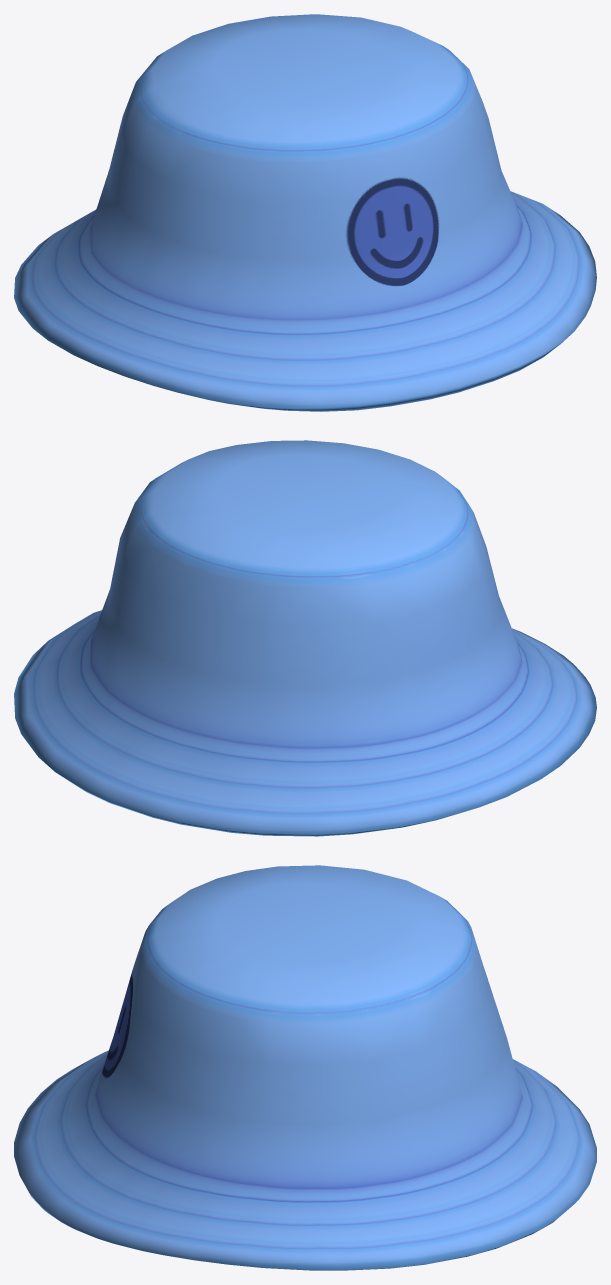
The model's file is Bucket.fbx.
3 renders of one model, top to bottom at view 1: azimuth 30°, elevation 25°; view 2: azimuth 150°, elevation 25°; view 3: azimuth 270°, elevation 25°, orthographic. The views are drawn at different scales.
Parts seen in each view (by area): view 1: Bucket; view 2: Bucket; view 3: Bucket.
Part boxes in pixels (x1,y1,x2,y2): Bucket: (14, 14, 596, 411); Bucket: (14, 440, 596, 836); Bucket: (14, 865, 596, 1270).
Bounding box in the file's own units: 53.17 × 22.63 × 50.54.
